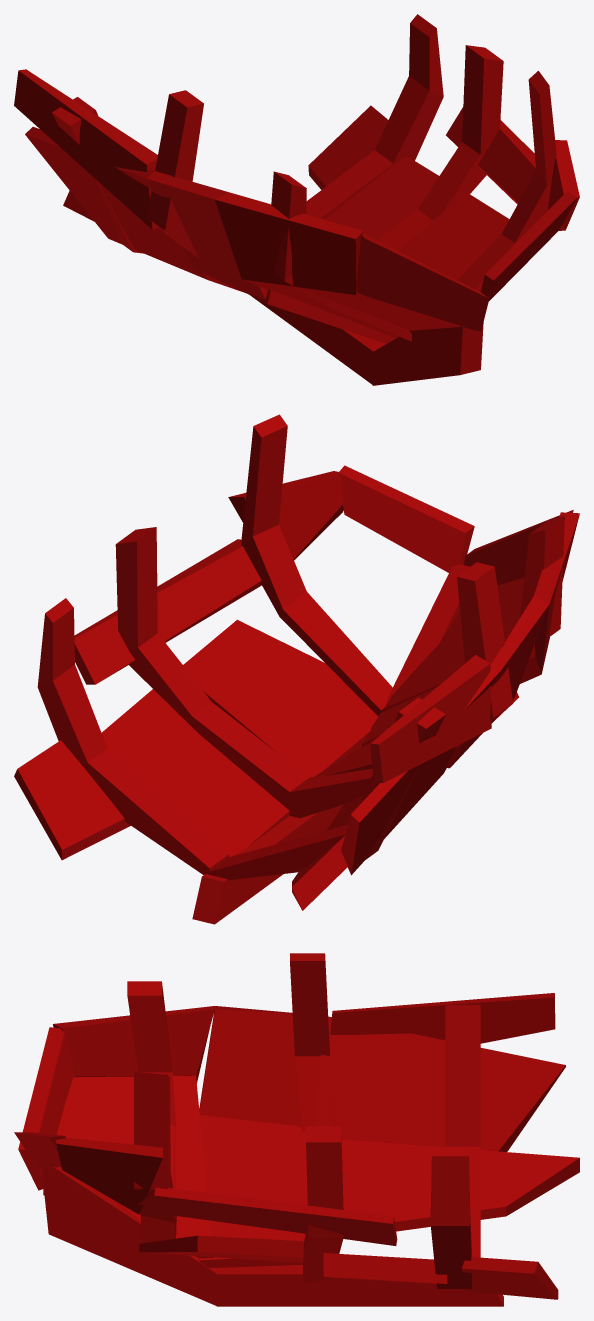
File: SM_Prop_ShipWreck_01_Collision.glb
The picture shows the model from 3 angles, top to bottom: view 1: azimuth 30°, elevation 25°; view 2: azimuth 150°, elevation 25°; view 3: azimuth 270°, elevation 25°; orthographic projection. The views are drawn at different scales.
Visible parts, largest first — view 1: SM_Prop_ShipWreck_01_Collision; view 2: SM_Prop_ShipWreck_01_Collision; view 3: SM_Prop_ShipWreck_01_Collision.
Boxes of the visible parts, x1,y1,x2,y2 form: SM_Prop_ShipWreck_01_Collision: [14, 14, 579, 385]; SM_Prop_ShipWreck_01_Collision: [14, 414, 579, 924]; SM_Prop_ShipWreck_01_Collision: [14, 953, 579, 1306].
Bounding box in the file's own units: 8.45 × 6.35 × 11.34.
